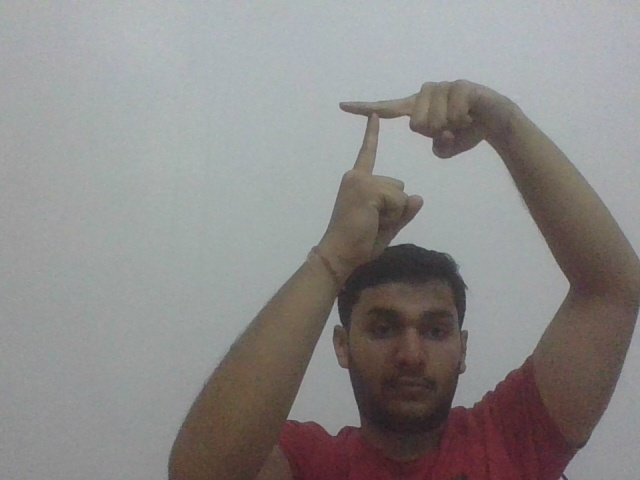T: (337, 94, 403, 170)
